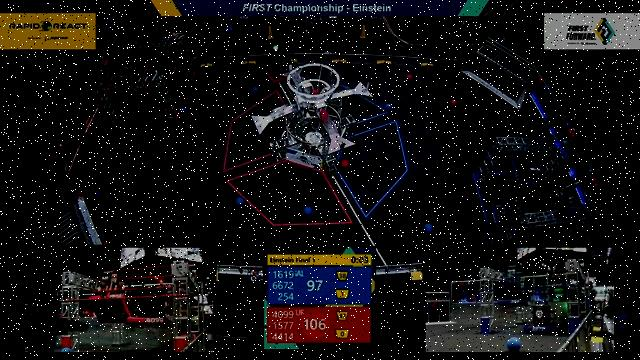Robot: (505, 138, 552, 186), (258, 39, 298, 86), (139, 45, 179, 90), (486, 191, 529, 232), (112, 59, 151, 103)
